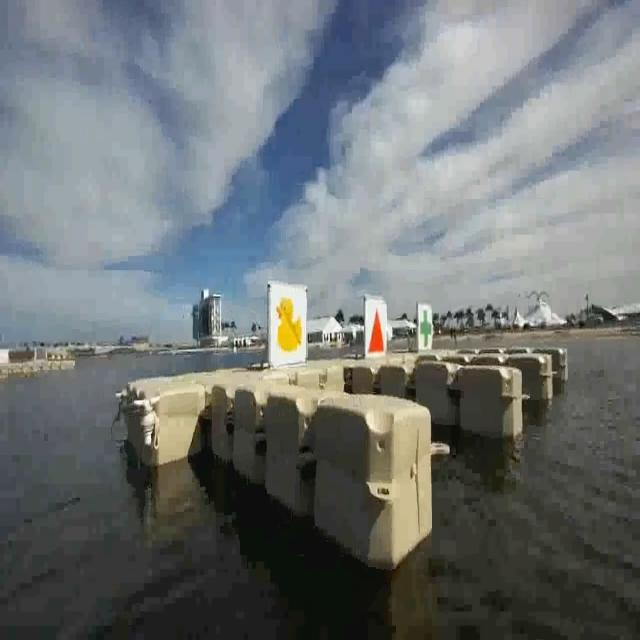blue-cross: (419, 304, 434, 352)
red-dot: (364, 294, 387, 358)
yellow-duck: (274, 293, 302, 352)
